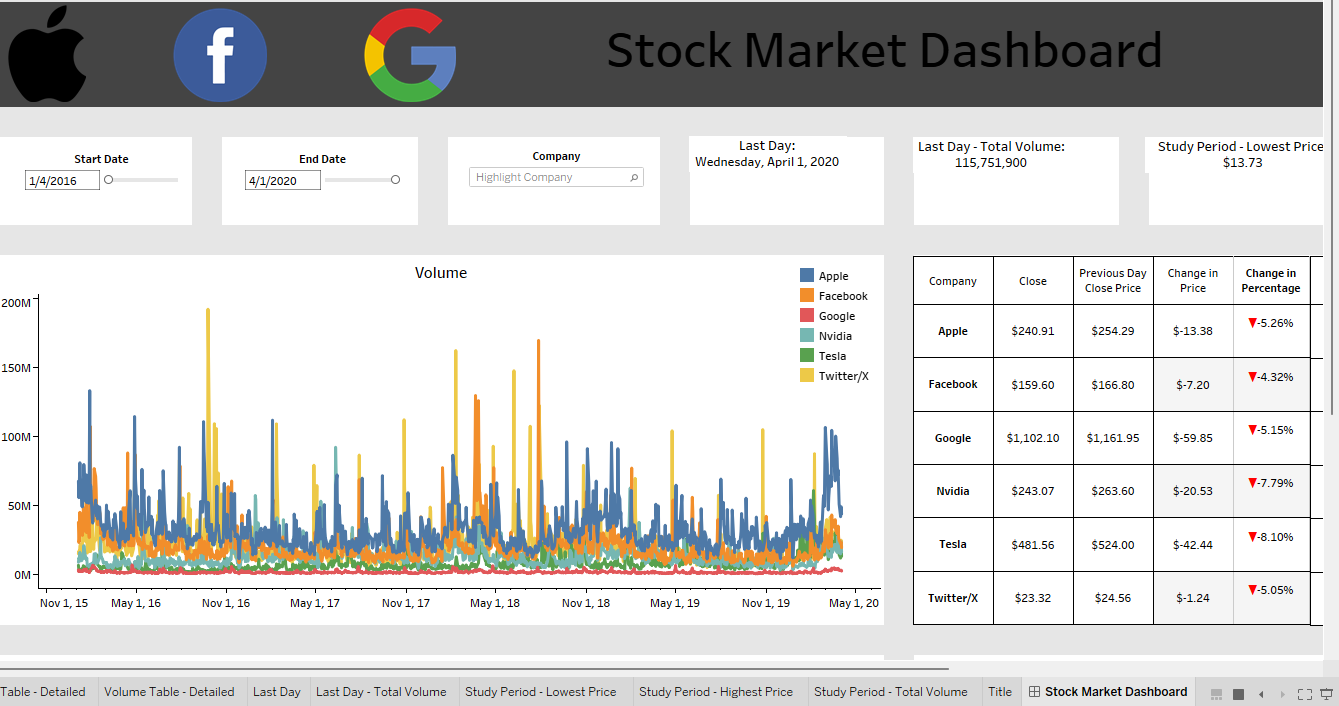

The page's visual inventory and layout, read from the dashboard file:
{"tool":"tableau","page":{"name":"Stock Market Dashboard","canvas":[1850,1050],"ordinal":0},"visuals":[{"type":"blank","box":[8,8,1834,134.5]},{"type":"image","param":"C:/Users/shant/OneDrive/Documents/Tableau Projects/Stock Market/Twitter-X-Logo.p","box":[1677,22,108,102]},{"type":"image","param":"C:/Users/shant/OneDrive/Documents/Tableau Projects/Stock Market/Apple logo.png","box":[34,26,98,97]},{"type":"image","param":"C:/Users/shant/OneDrive/Documents/Tableau Projects/Stock Market/Facebook logo.pn","box":[199,29,97,94]},{"type":"image","param":"C:/Users/shant/OneDrive/Documents/Tableau Projects/Stock Market/Google logo.png","box":[390,29,113,94]},{"type":"image","param":"C:/Users/shant/OneDrive/Documents/Tableau Projects/Stock Market/Nvidia logo.png","box":[1362,33,126,86]},{"type":"image","param":"C:/Users/shant/OneDrive/Documents/Tableau Projects/Stock Market/Tesla logo.png","box":[1543,33,85,84]},{"type":"worksheet","title":"Title","mark":"Automatic","box":[438,39,1333,70]},{"type":"blank","box":[8,142.5,225.5,118.7]},{"type":"blank","box":[233.5,142.5,225.6,118.7]},{"type":"blank","box":[459,142.5,242.3,118.7]},{"type":"blank","box":[701.3,142.5,223.7,118.7]},{"type":"blank","box":[925,142.5,234.8,118.7]},{"type":"blank","box":[1159.8,142.5,231.1,118.7]},{"type":"blank","box":[1390.9,142.5,229.3,118.7]},{"type":"blank","box":[1620.2,142.5,221.8,118.7]},{"type":"worksheet","title":"Study Period - Total Volume","mark":"Automatic","box":[1628,156,200,92]},{"type":"worksheet","title":"Last Day","mark":"Automatic","box":[715,157,195,90]},{"type":"worksheet","title":"Study Period - Highest Price","mark":"Automatic","box":[1405,157,203,87]},{"type":"worksheet","title":"Last Day - Total Volume","mark":"Automatic","box":[939,158,204,90]},{"type":"worksheet","title":"Study Period - Lowest Price ","mark":"Automatic","box":[1171,158,207,87]},{"type":"highlighter","title":"Volume","param":"[federated.1u9ux1g09njqgv1dsznr10mvlntn].[none:Table Name:nk]","box":[492.1,169.3,181.3,69.6]},{"type":"parameter","param":"[Parameters].[Parameter 1]","box":[48.1,171.9,159.1,64.3]},{"type":"parameter","param":"[Parameters].[Parameter 2]","box":[268.2,171.9,160.9,64.3]},{"type":"blank","box":[8,261.2,917,399.9]},{"type":"blank","box":[925,261.2,917,399.8]},{"type":"worksheet","title":"Price Table - Detailed","mark":"Automatic","rows":["Table Name","Close","Previous Day Close Price","Change in Price"],"box":[939,277,397,369]},{"type":"worksheet","title":"Volume Table - Detailed","mark":"Automatic","rows":["Table Name","Volume","Previous Day Volume","Change in Volume"],"box":[1336,277,474,370]},{"type":"worksheet","title":"Volume","mark":"Automatic","rows":["Volume"],"cols":["Date"],"box":[27.1,278.9,880.3,359.6]},{"type":"legend","title":"Volume","param":"[federated.1u9ux1g09njqgv1dsznr10mvlntn].[none:Table Name:nk]","box":[823,286,76,139]},{"type":"blank","box":[925,661,917,381]},{"type":"blank","box":[8,661.1,917,380.9]},{"type":"worksheet","title":"Price Percent Change","mark":"Automatic","rows":["Percent Change in Price"],"cols":["Percent Change in Price (bin)"],"box":[23,676,886,351]},{"type":"worksheet","title":"Moving Average - Open Price","mark":"Automatic","cols":["Date"],"box":[940,676,885,351]},{"type":"legend","title":"Price Percent Change","param":"[federated.1u9ux1g09njqgv1dsznr10mvlntn].[none:Table Name:nk]","box":[815,677,92,136]},{"type":"filter","title":"Moving Average - Open Price","param":"[federated.1u9ux1g09njqgv1dsznr10mvlntn].[none:Table Name:nk]","box":[1643,679,160,22]},{"type":"legend","title":"Moving Average - Open Price","param":"[federated.1u9ux1g09njqgv1dsznr10mvlntn].[:Measure Names]","box":[996,680,83,84]}]}

Visuals, with their boxes on the page's 1850x1050 design canvas (x1, y1, x2, y2). These are canvas units, not pixel positions in the 1339x706 screenshot, which may show the page scaled, cropped or inside an application window:
blank: (8,8,1842,142)
image: (1677,22,1785,124)
image: (34,26,132,123)
image: (199,29,296,123)
image: (390,29,503,123)
image: (1362,33,1488,119)
image: (1543,33,1628,117)
"Title" worksheet: (438,39,1771,109)
blank: (8,142,234,261)
blank: (234,142,459,261)
blank: (459,142,701,261)
blank: (701,142,925,261)
blank: (925,142,1160,261)
blank: (1160,142,1391,261)
blank: (1391,142,1620,261)
blank: (1620,142,1842,261)
"Study Period - Total Volume" worksheet: (1628,156,1828,248)
"Last Day" worksheet: (715,157,910,247)
"Study Period - Highest Price" worksheet: (1405,157,1608,244)
"Last Day - Total Volume" worksheet: (939,158,1143,248)
"Study Period - Lowest Price " worksheet: (1171,158,1378,245)
"Volume" highlighter: (492,169,673,239)
parameter: (48,172,207,236)
parameter: (268,172,429,236)
blank: (8,261,925,661)
blank: (925,261,1842,661)
"Price Table - Detailed" worksheet: (939,277,1336,646)
"Volume Table - Detailed" worksheet: (1336,277,1810,647)
"Volume" worksheet: (27,279,907,638)
"Volume" legend: (823,286,899,425)
blank: (925,661,1842,1042)
blank: (8,661,925,1042)
"Price Percent Change" worksheet: (23,676,909,1027)
"Moving Average - Open Price" worksheet: (940,676,1825,1027)
"Price Percent Change" legend: (815,677,907,813)
"Moving Average - Open Price" filter: (1643,679,1803,701)
"Moving Average - Open Price" legend: (996,680,1079,764)
